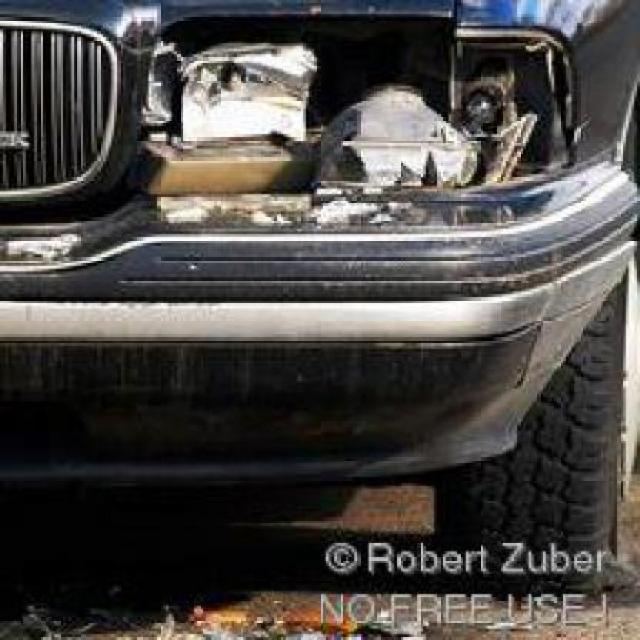damaged-head-light: (143, 12, 591, 190)
